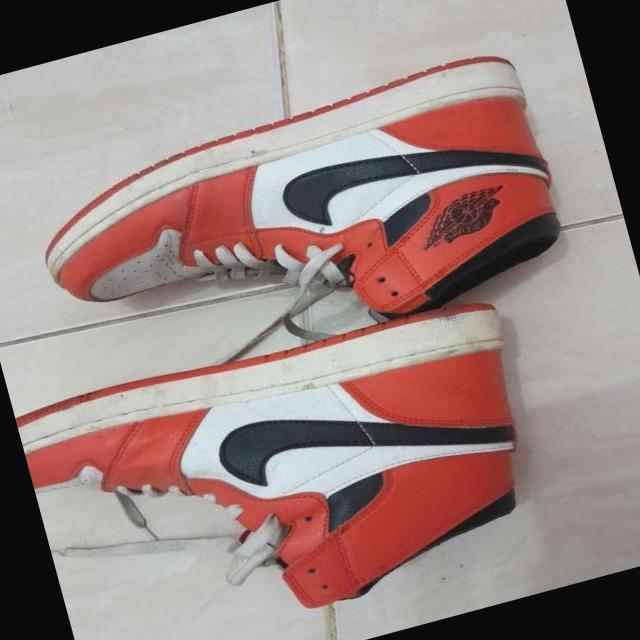nike_fake_jordan: (19, 41, 576, 414), (14, 287, 559, 640)
